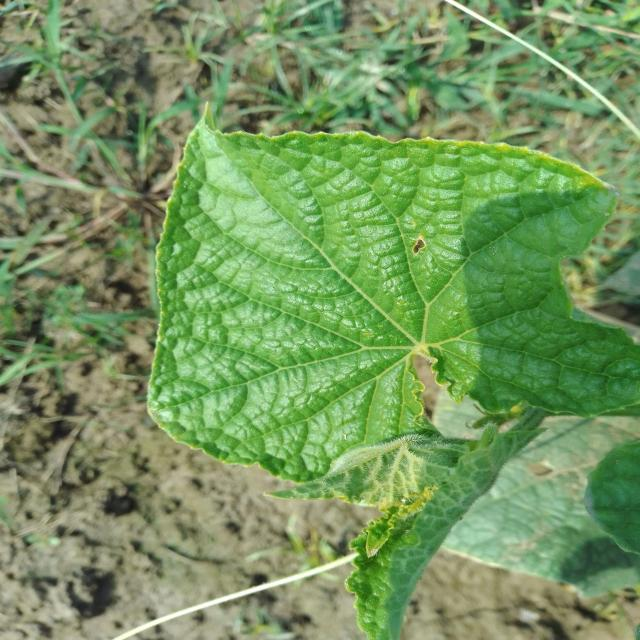cucumber_healthy: (143, 88, 640, 425), (449, 415, 640, 617)
